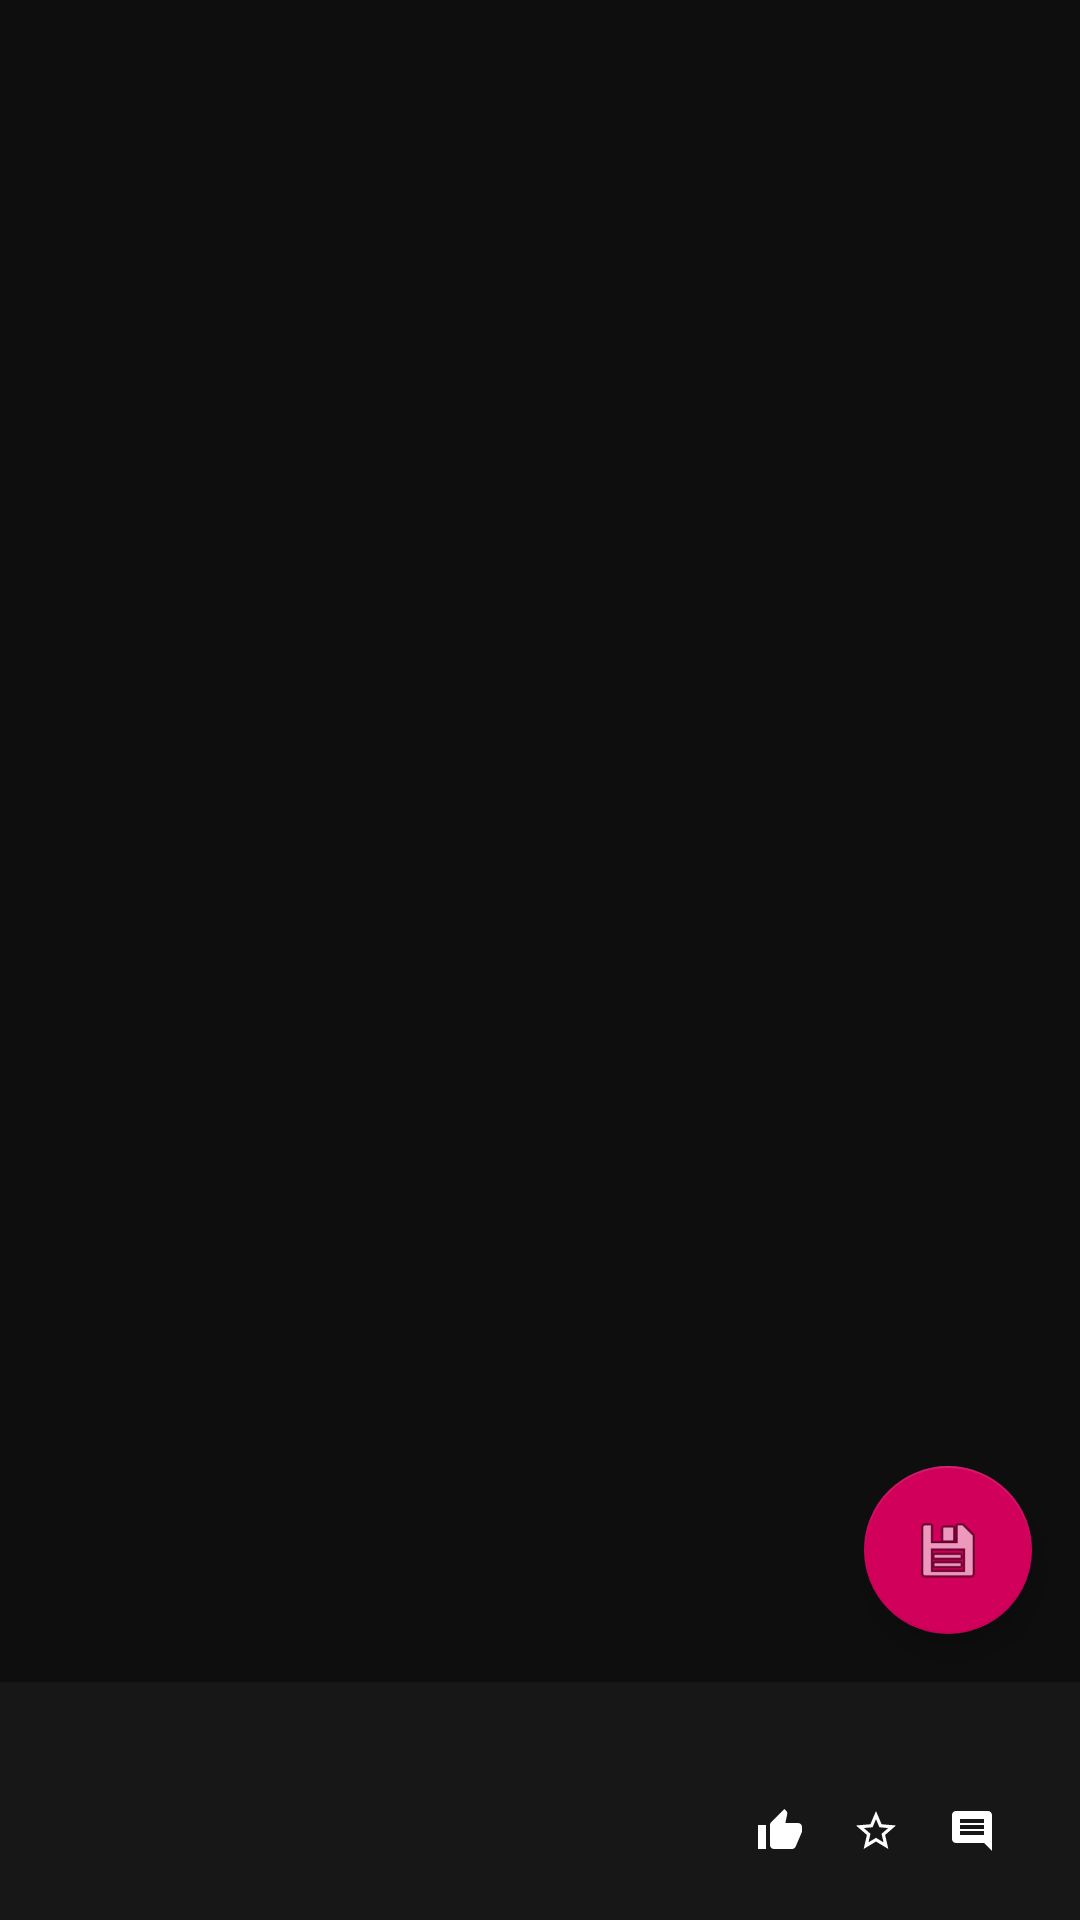

Icon bounding boxes for this 1080px×1920px phone screenshot, format (x1=x1, y1=y1, x2=x2, y2=y2):
comment: (x1=952, y1=1811, x2=992, y2=1851)
favorite: (x1=856, y1=1811, x2=896, y2=1849)
like: (x1=758, y1=1809, x2=802, y2=1849)
save: (x1=864, y1=1466, x2=1032, y2=1634)
